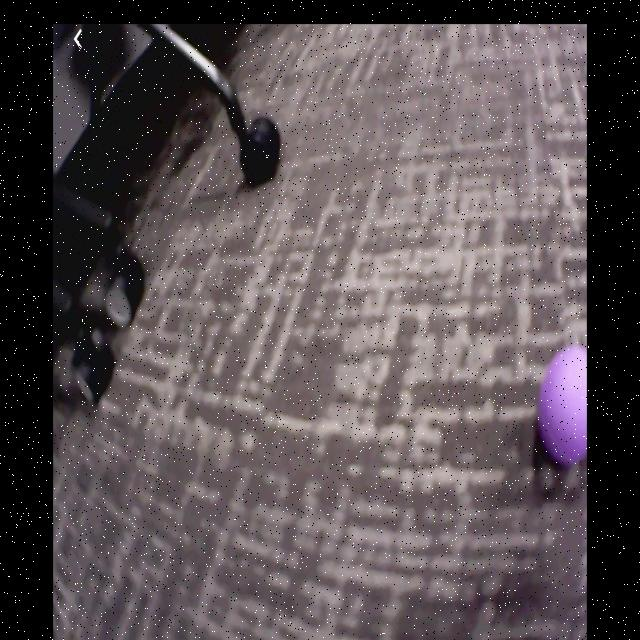ball: (538, 343, 589, 469)
